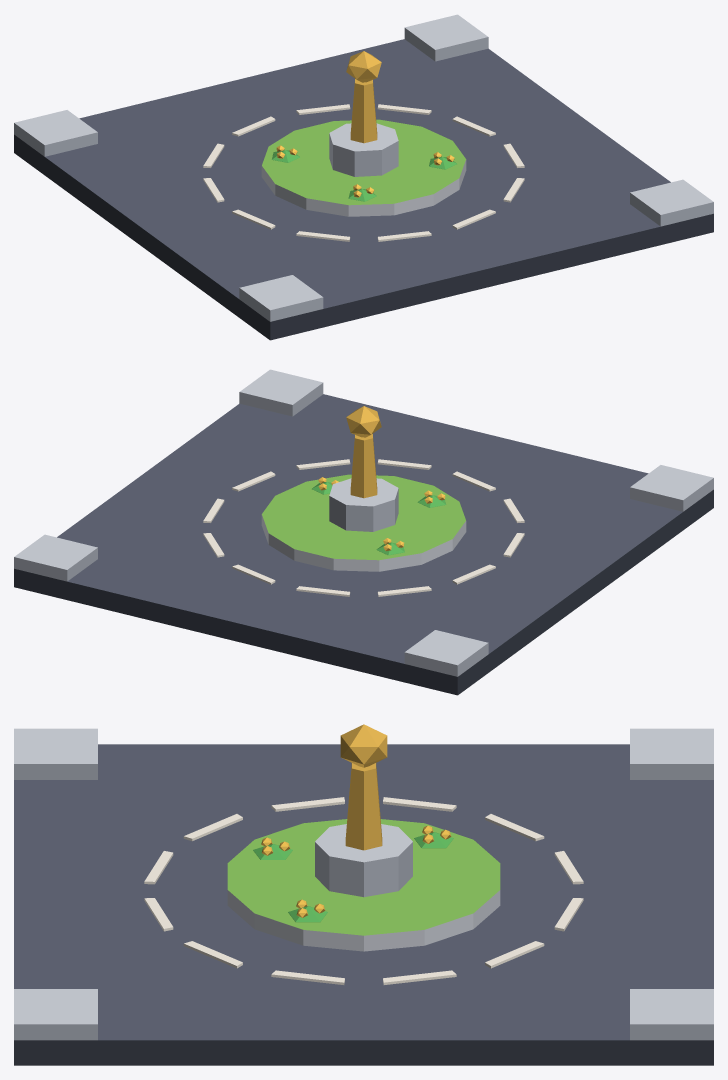
Rendered from road_roundabout.glb.
The picture shows the model from 3 angles, top to bottom: view 1: azimuth 30°, elevation 25°; view 2: azimuth 150°, elevation 25°; view 3: azimuth 270°, elevation 25°; orthographic projection. The views are drawn at different scales.
Visible parts, largest first — view 1: road_roundabout; view 2: road_roundabout; view 3: road_roundabout.
Part boxes in pixels (box(x1,y1,x2,y2)): road_roundabout: box(14, 14, 713, 340); road_roundabout: box(14, 369, 713, 695); road_roundabout: box(14, 724, 713, 1065).
Size of the model in its own units: 1 by 0.305 by 1.
